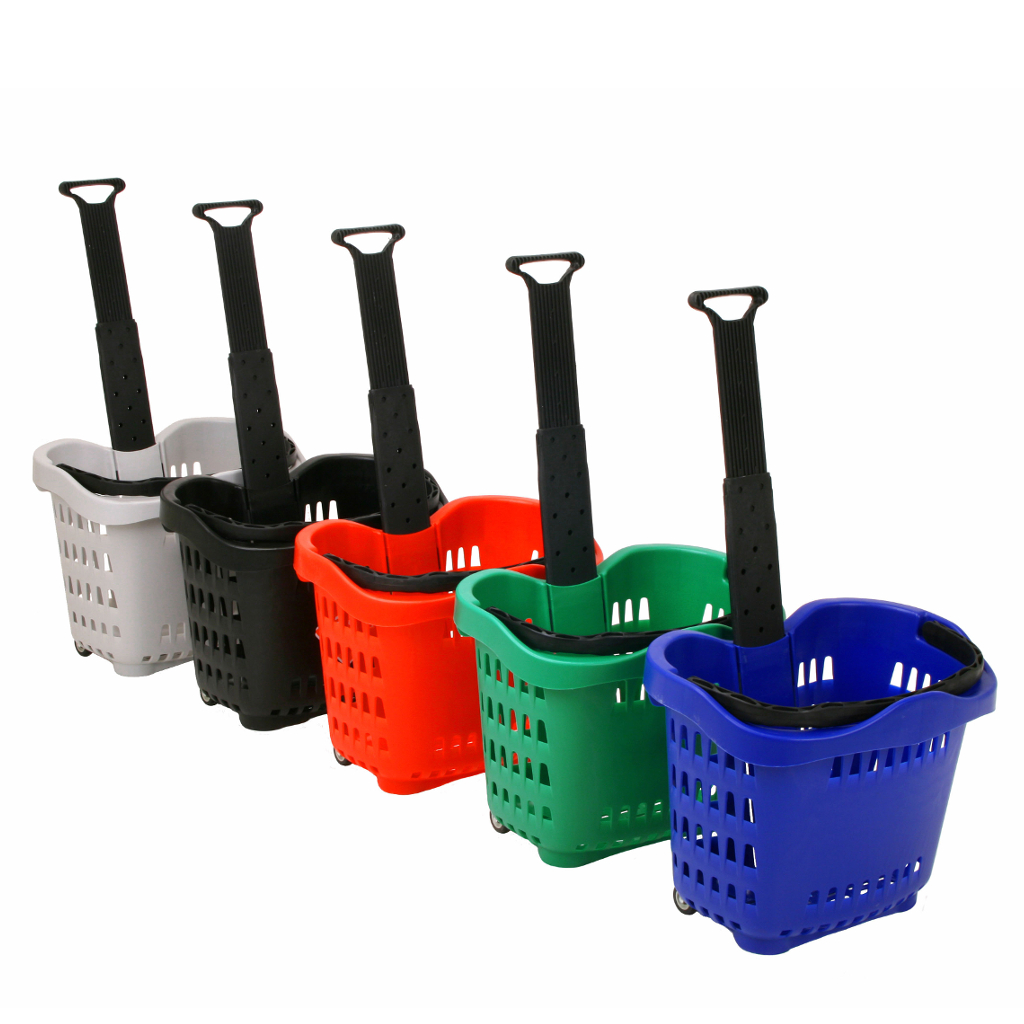with_basket: (677, 289, 993, 949), (463, 211, 711, 870), (186, 157, 429, 779)
